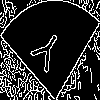Y: (25, 24, 65, 81)
